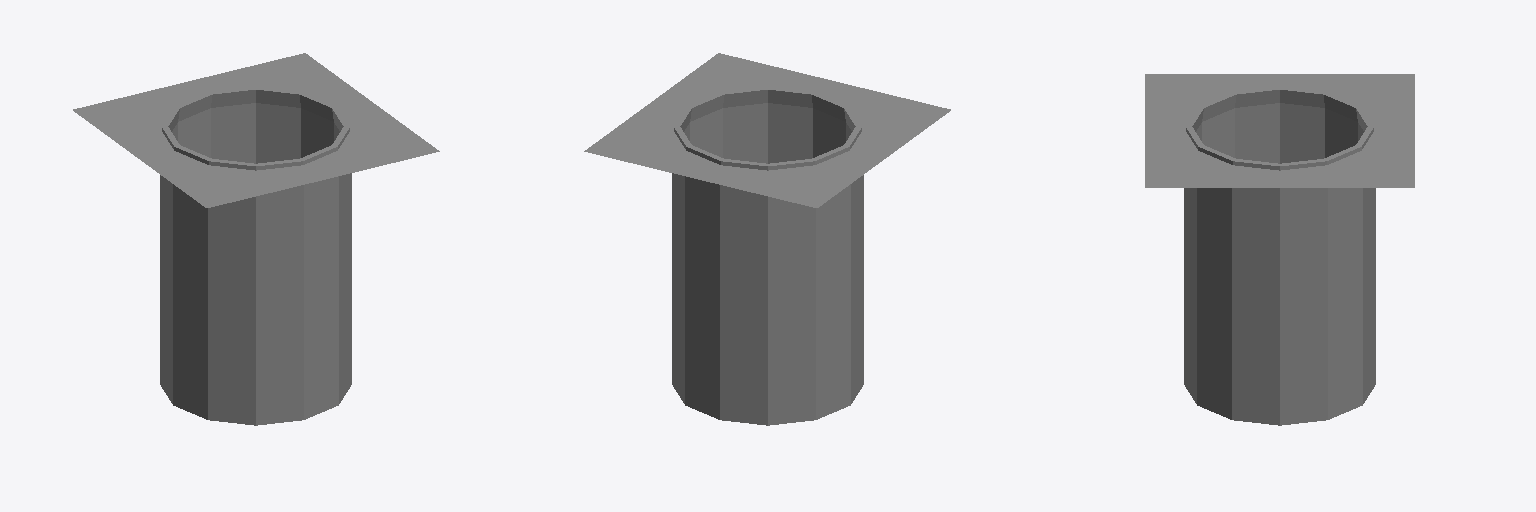
The model's file is Pit.obj.
3 views of the same model, side by side, from view 1: azimuth 30°, elevation 25°; view 2: azimuth 150°, elevation 25°; view 3: azimuth 270°, elevation 25° (orthographic).
Parts seen in each view (by area): view 1: Palette; view 2: Palette; view 3: Palette.
Part boxes in pixels (x1,y1,x2,y2): Palette: (73, 53, 439, 425); Palette: (584, 53, 950, 425); Palette: (1145, 74, 1414, 425).
Bounding box in the file's own units: 12 × 12.7 × 12.